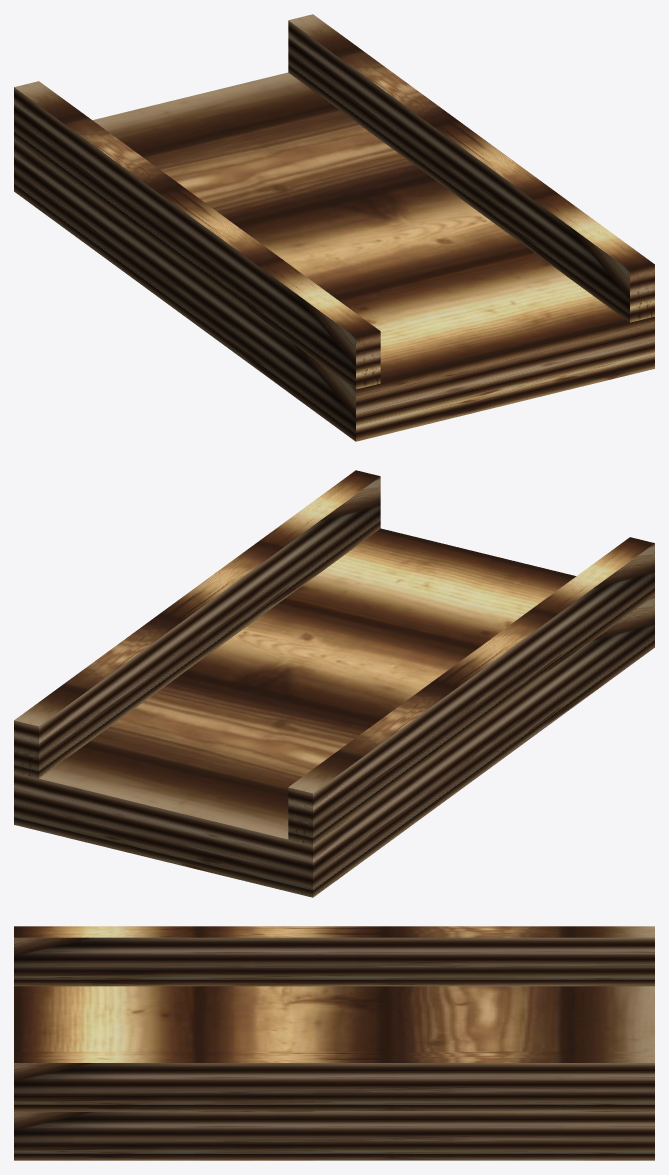
Rendered from D - Straight 6.obj.
3 renders of one model, top to bottom at view 1: azimuth 30°, elevation 25°; view 2: azimuth 150°, elevation 25°; view 3: azimuth 270°, elevation 25°, orthographic. The views are drawn at different scales.
Parts seen in each view (by area): view 1: polySurface9; view 2: polySurface9; view 3: polySurface9.
Part boxes in pixels (x1,y1,x2,y2): polySurface9: (14, 14, 654, 441); polySurface9: (14, 470, 654, 897); polySurface9: (14, 926, 654, 1160).
Bounding box in the file's own units: 420 × 140 × 832.
